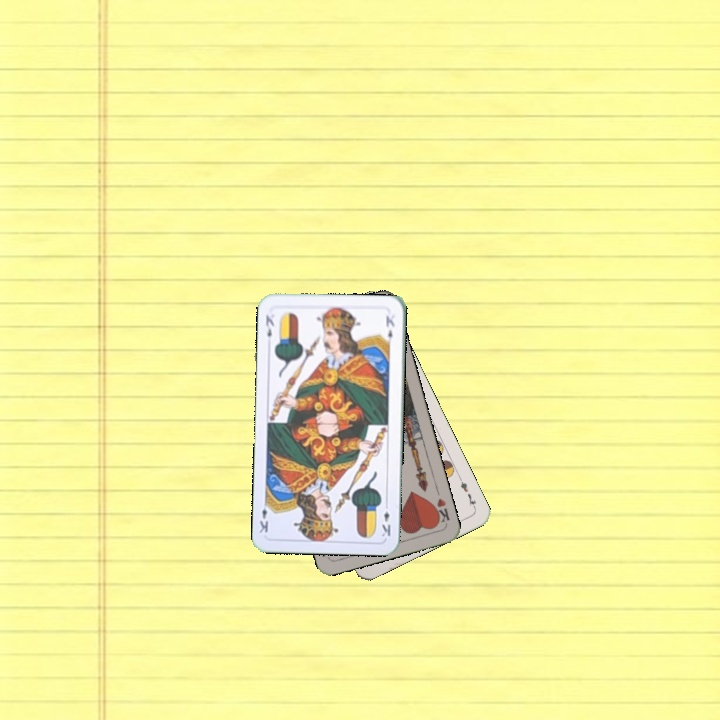E7: (455, 473, 479, 511)
EK: (378, 499, 393, 539), (262, 311, 277, 340)
HK: (429, 494, 452, 526)
